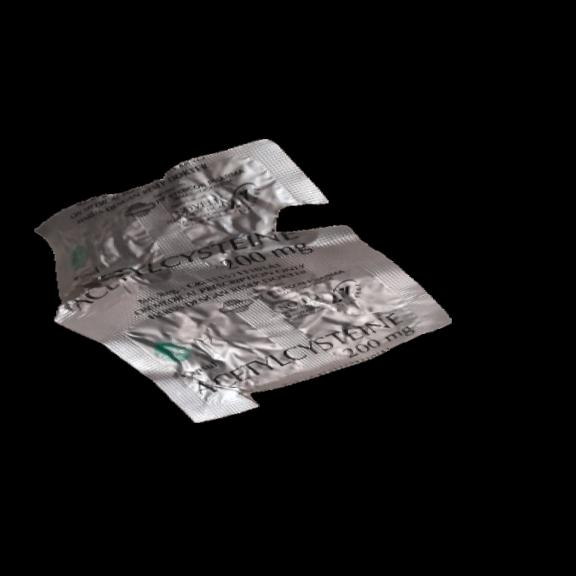Plastik: (14, 119, 470, 441)
